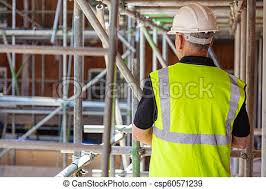Person_wearing_helmet: (166, 2, 215, 42)
